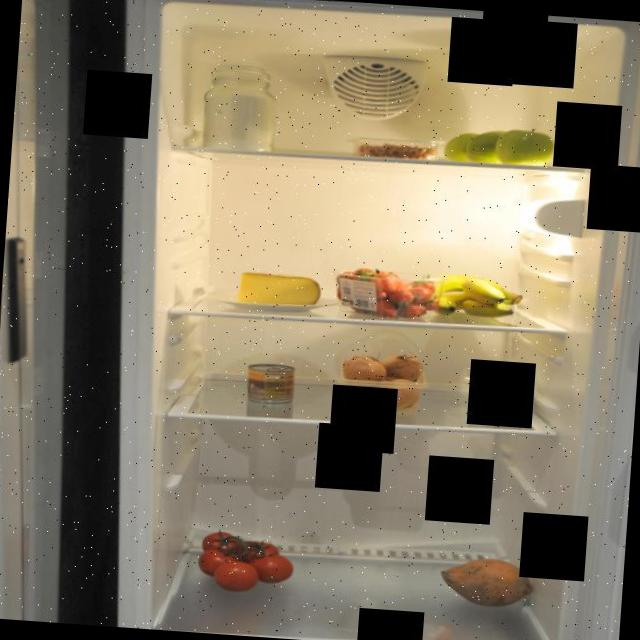Cebolla: (335, 347, 426, 416)
Gambas/Langostinos: (351, 134, 444, 164)
Manzana: (435, 118, 558, 166)
Plátano: (429, 270, 522, 324)
Queso: (230, 266, 325, 314)
Tomate: (192, 524, 300, 598)
